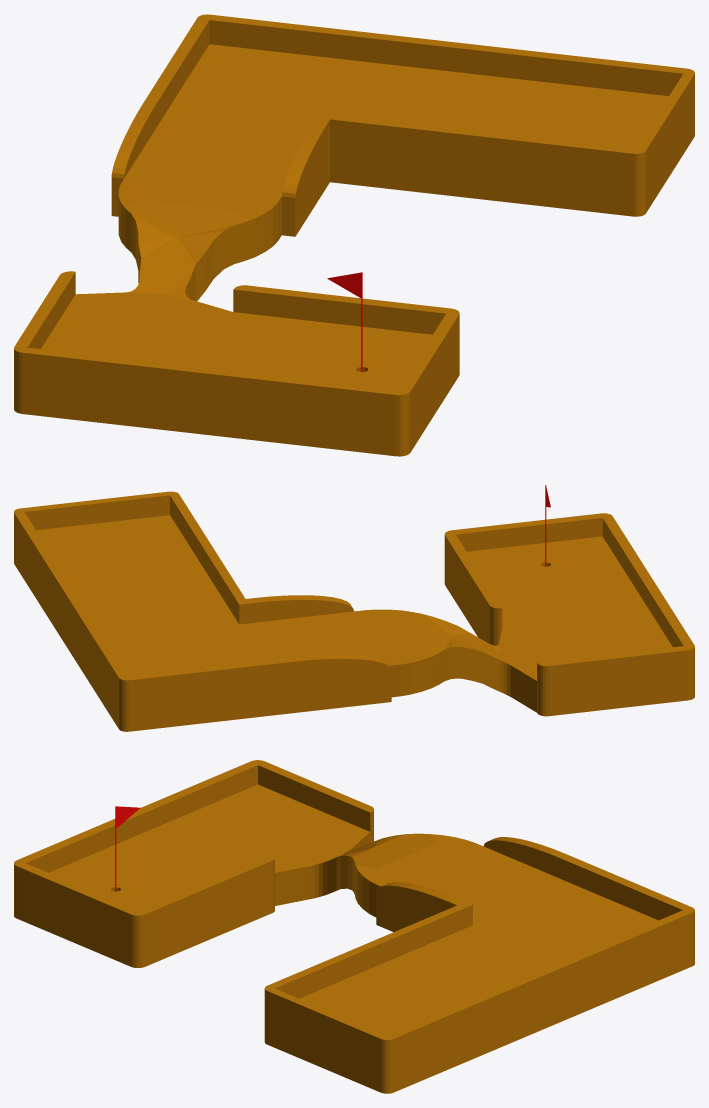
Rendered from level_14.glb.
The picture shows the model from 3 angles, top to bottom: view 1: azimuth 30°, elevation 25°; view 2: azimuth 150°, elevation 25°; view 3: azimuth 270°, elevation 25°; orthographic projection. The views are drawn at different scales.
Visible parts, largest first — view 1: green; view 2: green; view 3: green.
Boxes of the visible parts, box(x1,y1,x2,y2) form: green: box(14, 14, 694, 456); green: box(14, 491, 694, 731); green: box(14, 760, 694, 1093).
Size of the model in its own units: 6.62 by 1.14 by 6.05.
